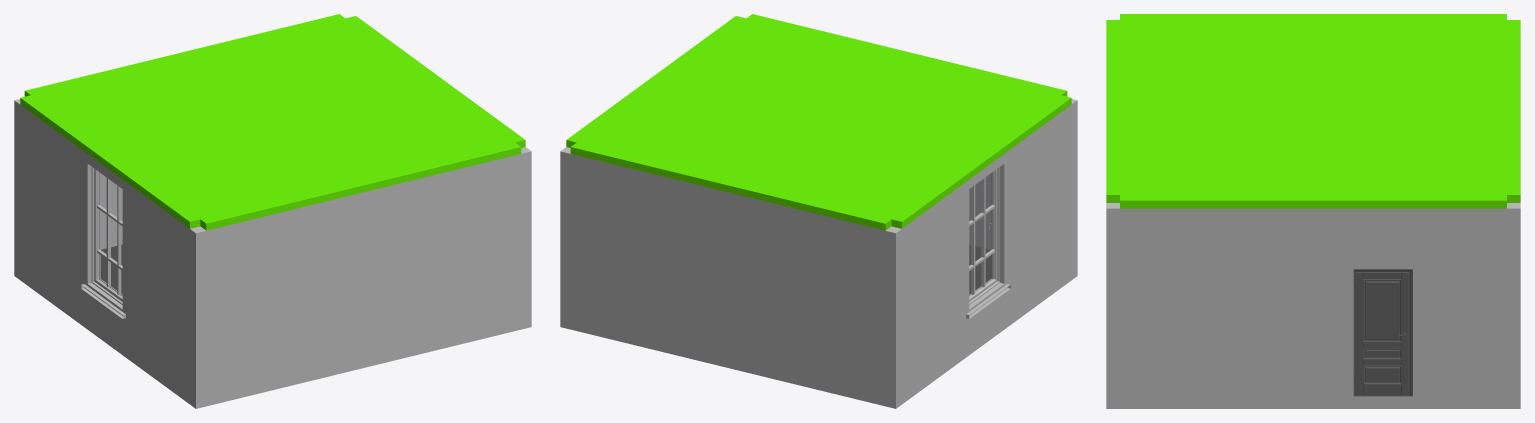
File: room_walls.fbx
3 views of the same model, side by side, from view 1: azimuth 30°, elevation 25°; view 2: azimuth 150°, elevation 25°; view 3: azimuth 270°, elevation 25° (orthographic). The views are drawn at different scales.
Visible parts, largest first — view 1: Empty_Mesh; view 2: Empty_Mesh; view 3: Empty_Mesh.
Boxes of the visible parts, x1,y1,x2,y2 form: Empty_Mesh: [14, 14, 531, 408]; Empty_Mesh: [560, 14, 1077, 408]; Empty_Mesh: [1106, 14, 1520, 408].
Bounding box in the file's own units: 651 × 333 × 600.
